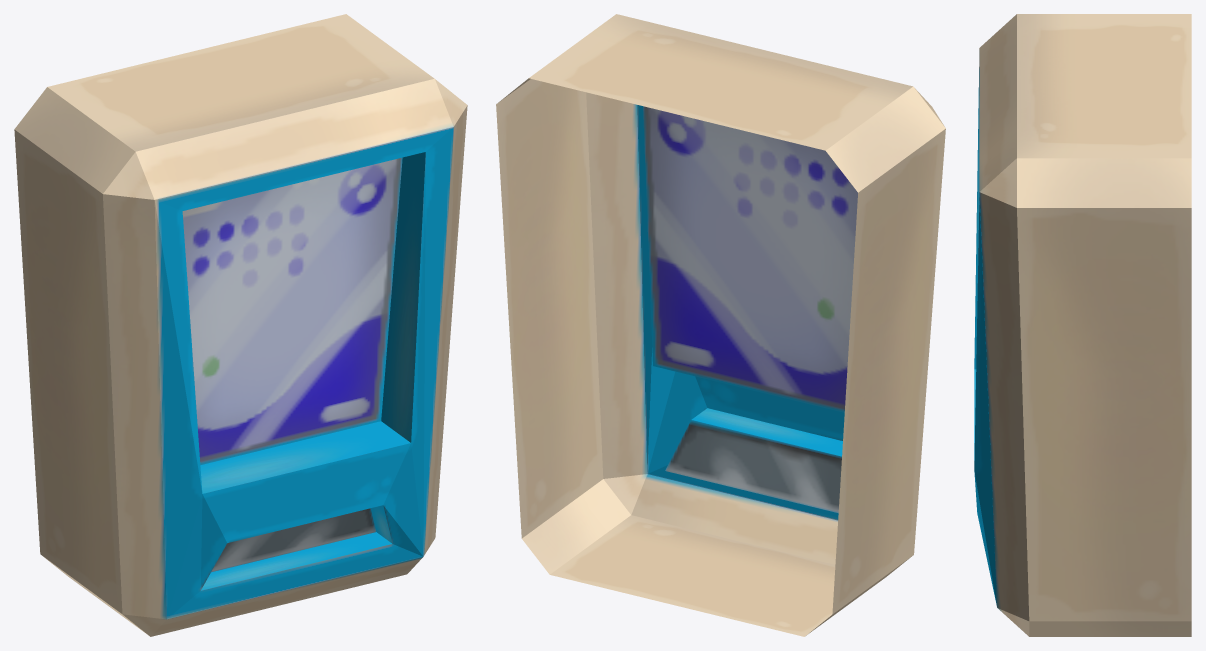
Rendered from billet.fbx.
3 renders of one model, left to right at view 1: azimuth 30°, elevation 25°; view 2: azimuth 150°, elevation 25°; view 3: azimuth 270°, elevation 25°, orthographic.
Visible parts, largest first — view 1: billet; view 2: billet; view 3: billet.
Boxes of the visible parts, bbox=[...] form: billet: bbox=[14, 14, 467, 636]; billet: bbox=[496, 14, 945, 636]; billet: bbox=[974, 14, 1191, 636].
Bounding box in the file's own units: 59.06 × 76.6 × 30.85.
